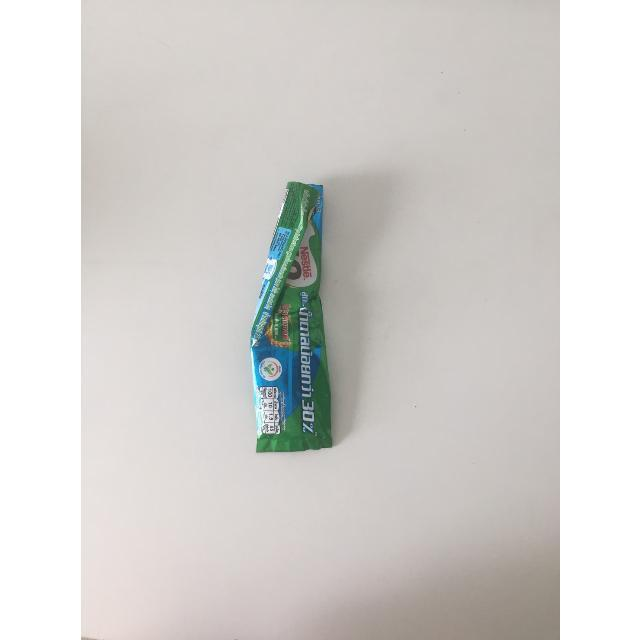Paquete de plastico: (240, 173, 347, 452)
